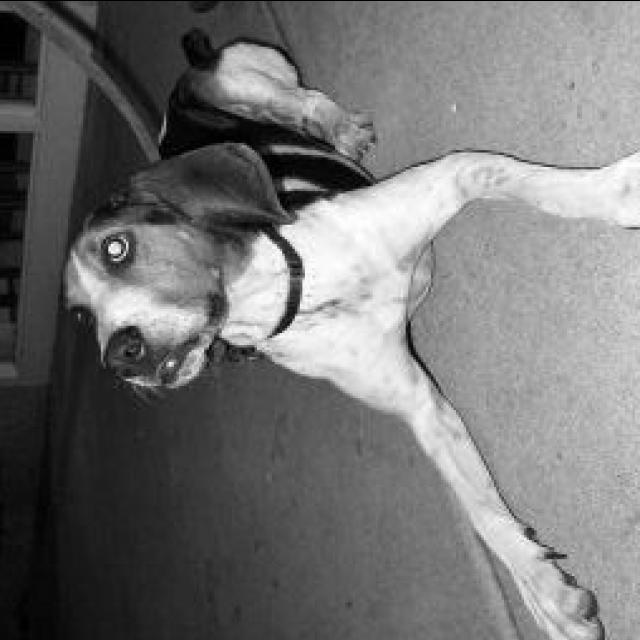laying down: (50, 34, 639, 640)
